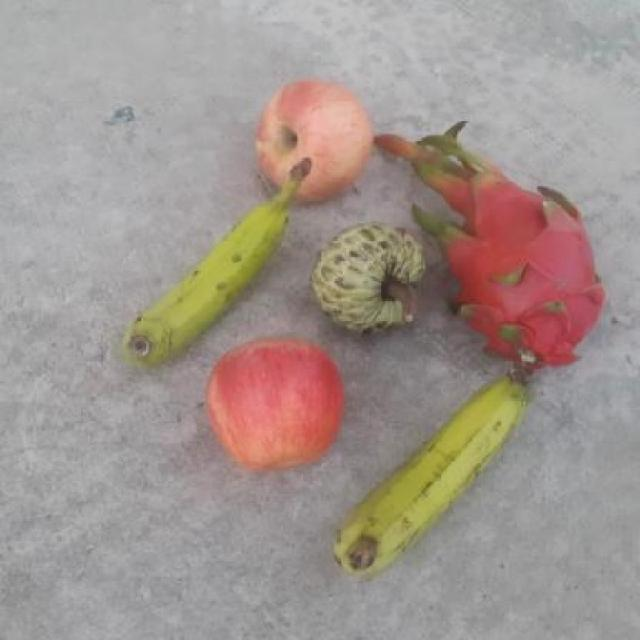apple: (206, 333, 349, 475), (253, 74, 378, 208)
banana: (330, 370, 528, 584), (119, 158, 316, 370)
dragon fruit: (436, 170, 616, 376)
sugar apple: (308, 221, 430, 341)
